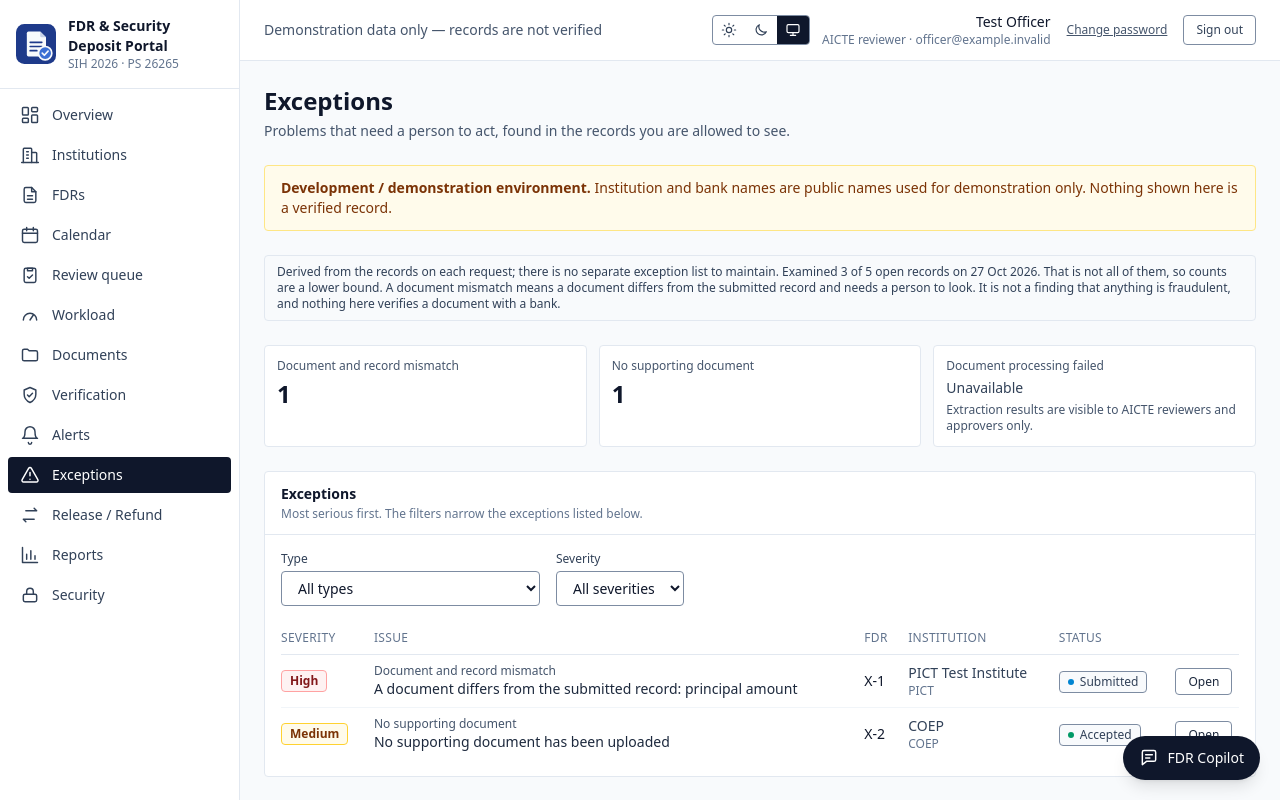
Scenario: exceptions › narrows the list by type and severity, and offers only the types that are available
Expected: the column heading "X-1" is shown, [864,655,908,708]
Select "No supporting document" in the dropdown labelled "Type" at (410, 588), box [281,571,540,606]
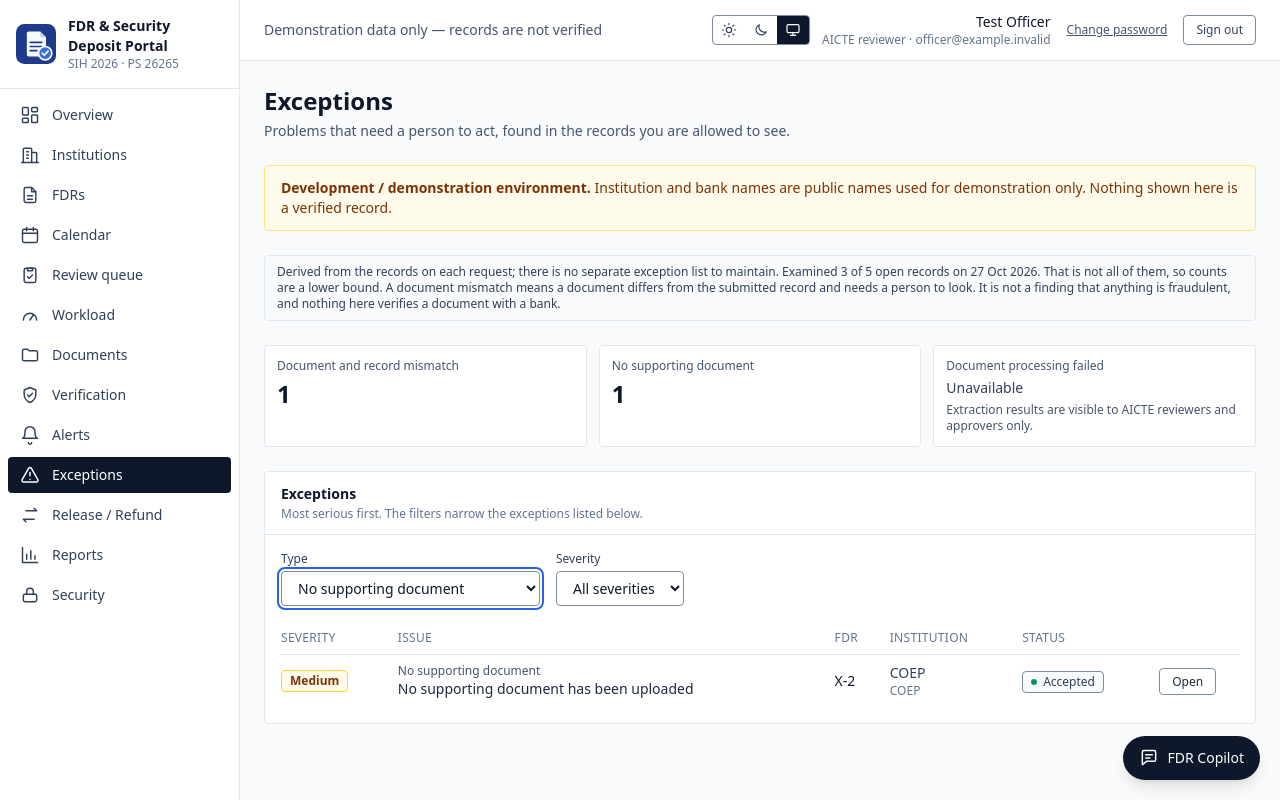
Expected: the column heading "X-2" is shown, [835,655,890,707]
Expected: the column heading "X-1" is gone
Select "High" in the dropdown labelled "Severity" at (620, 588), box [556,571,684,606]
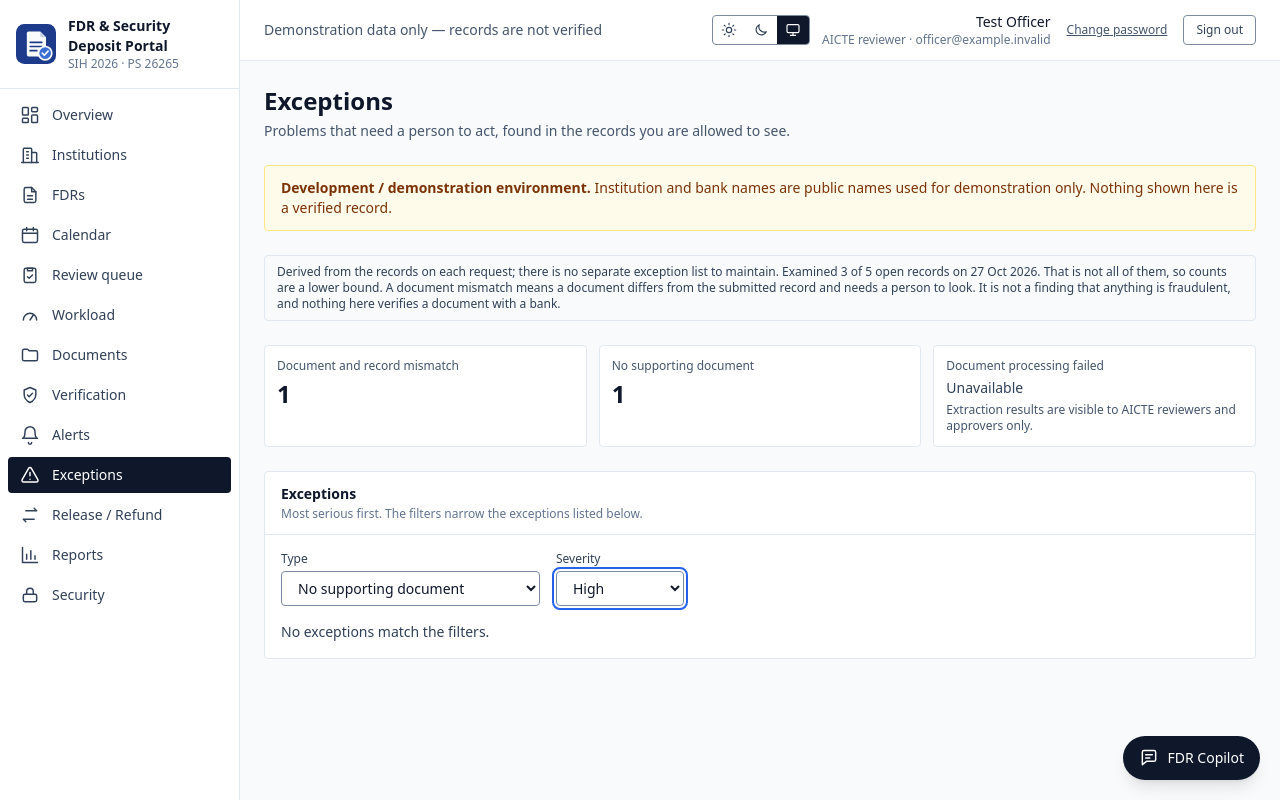
Expected: the text "No exceptions match the filters." is shown, [281,622,489,641]
